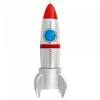ten_lua: (33, 3, 68, 100)
